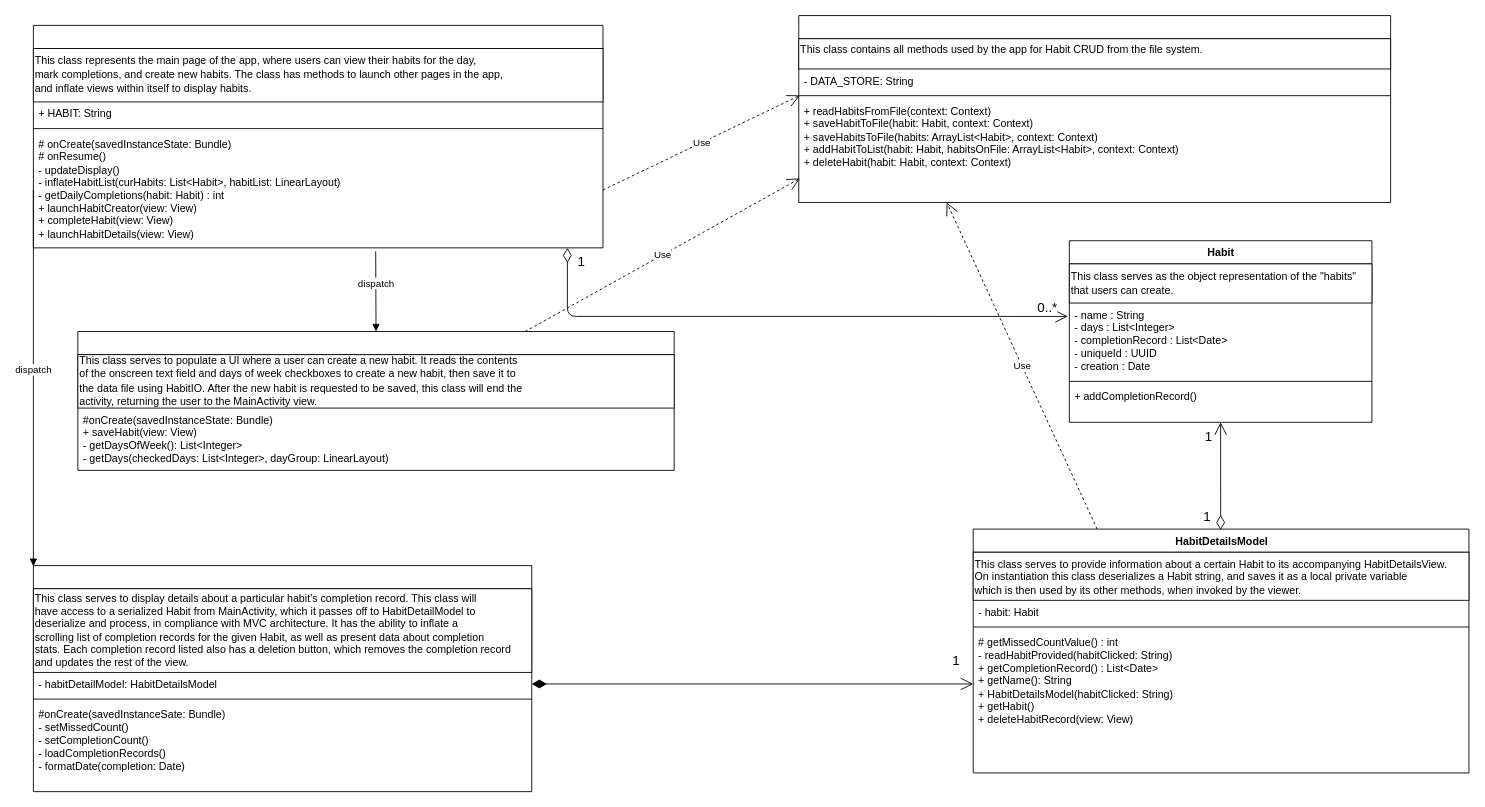
This 1485x807 diagram has some shape labels left out. Here are the shapes that lost their labels. From the top down, the box of each, then its label:
(798, 15, 1391, 202): HabitIO
(32, 24, 603, 248): MainActivity
(77, 331, 674, 470): AddHabitView
(32, 565, 532, 792): HabitDetailsView
